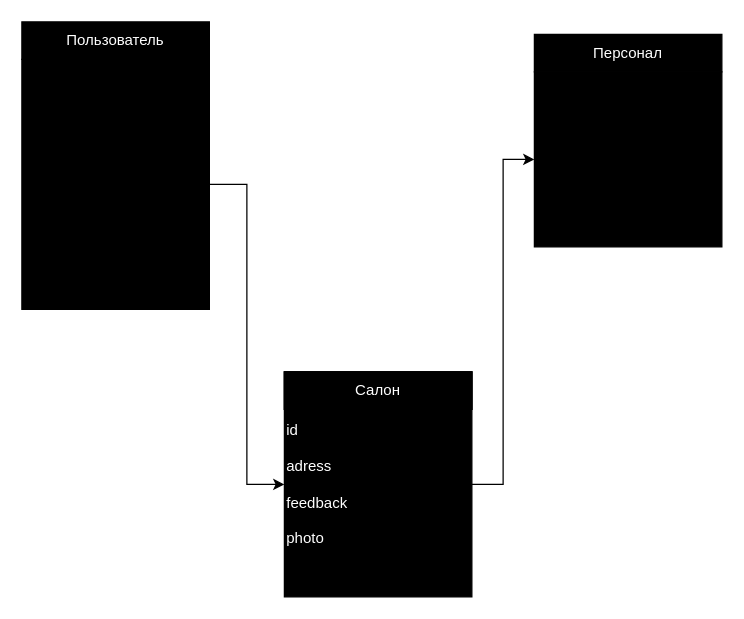
Some shapes in this 744 by 619 pixel diagram are drawn without their labels. The box of each missing label's shape, as (x1, y1, x2, y2) in pixels:
id namе work experience rating service area: (533, 71, 722, 247)
id namе еmail rolе password givеnfееdback scorе: (21, 58, 209, 309)
